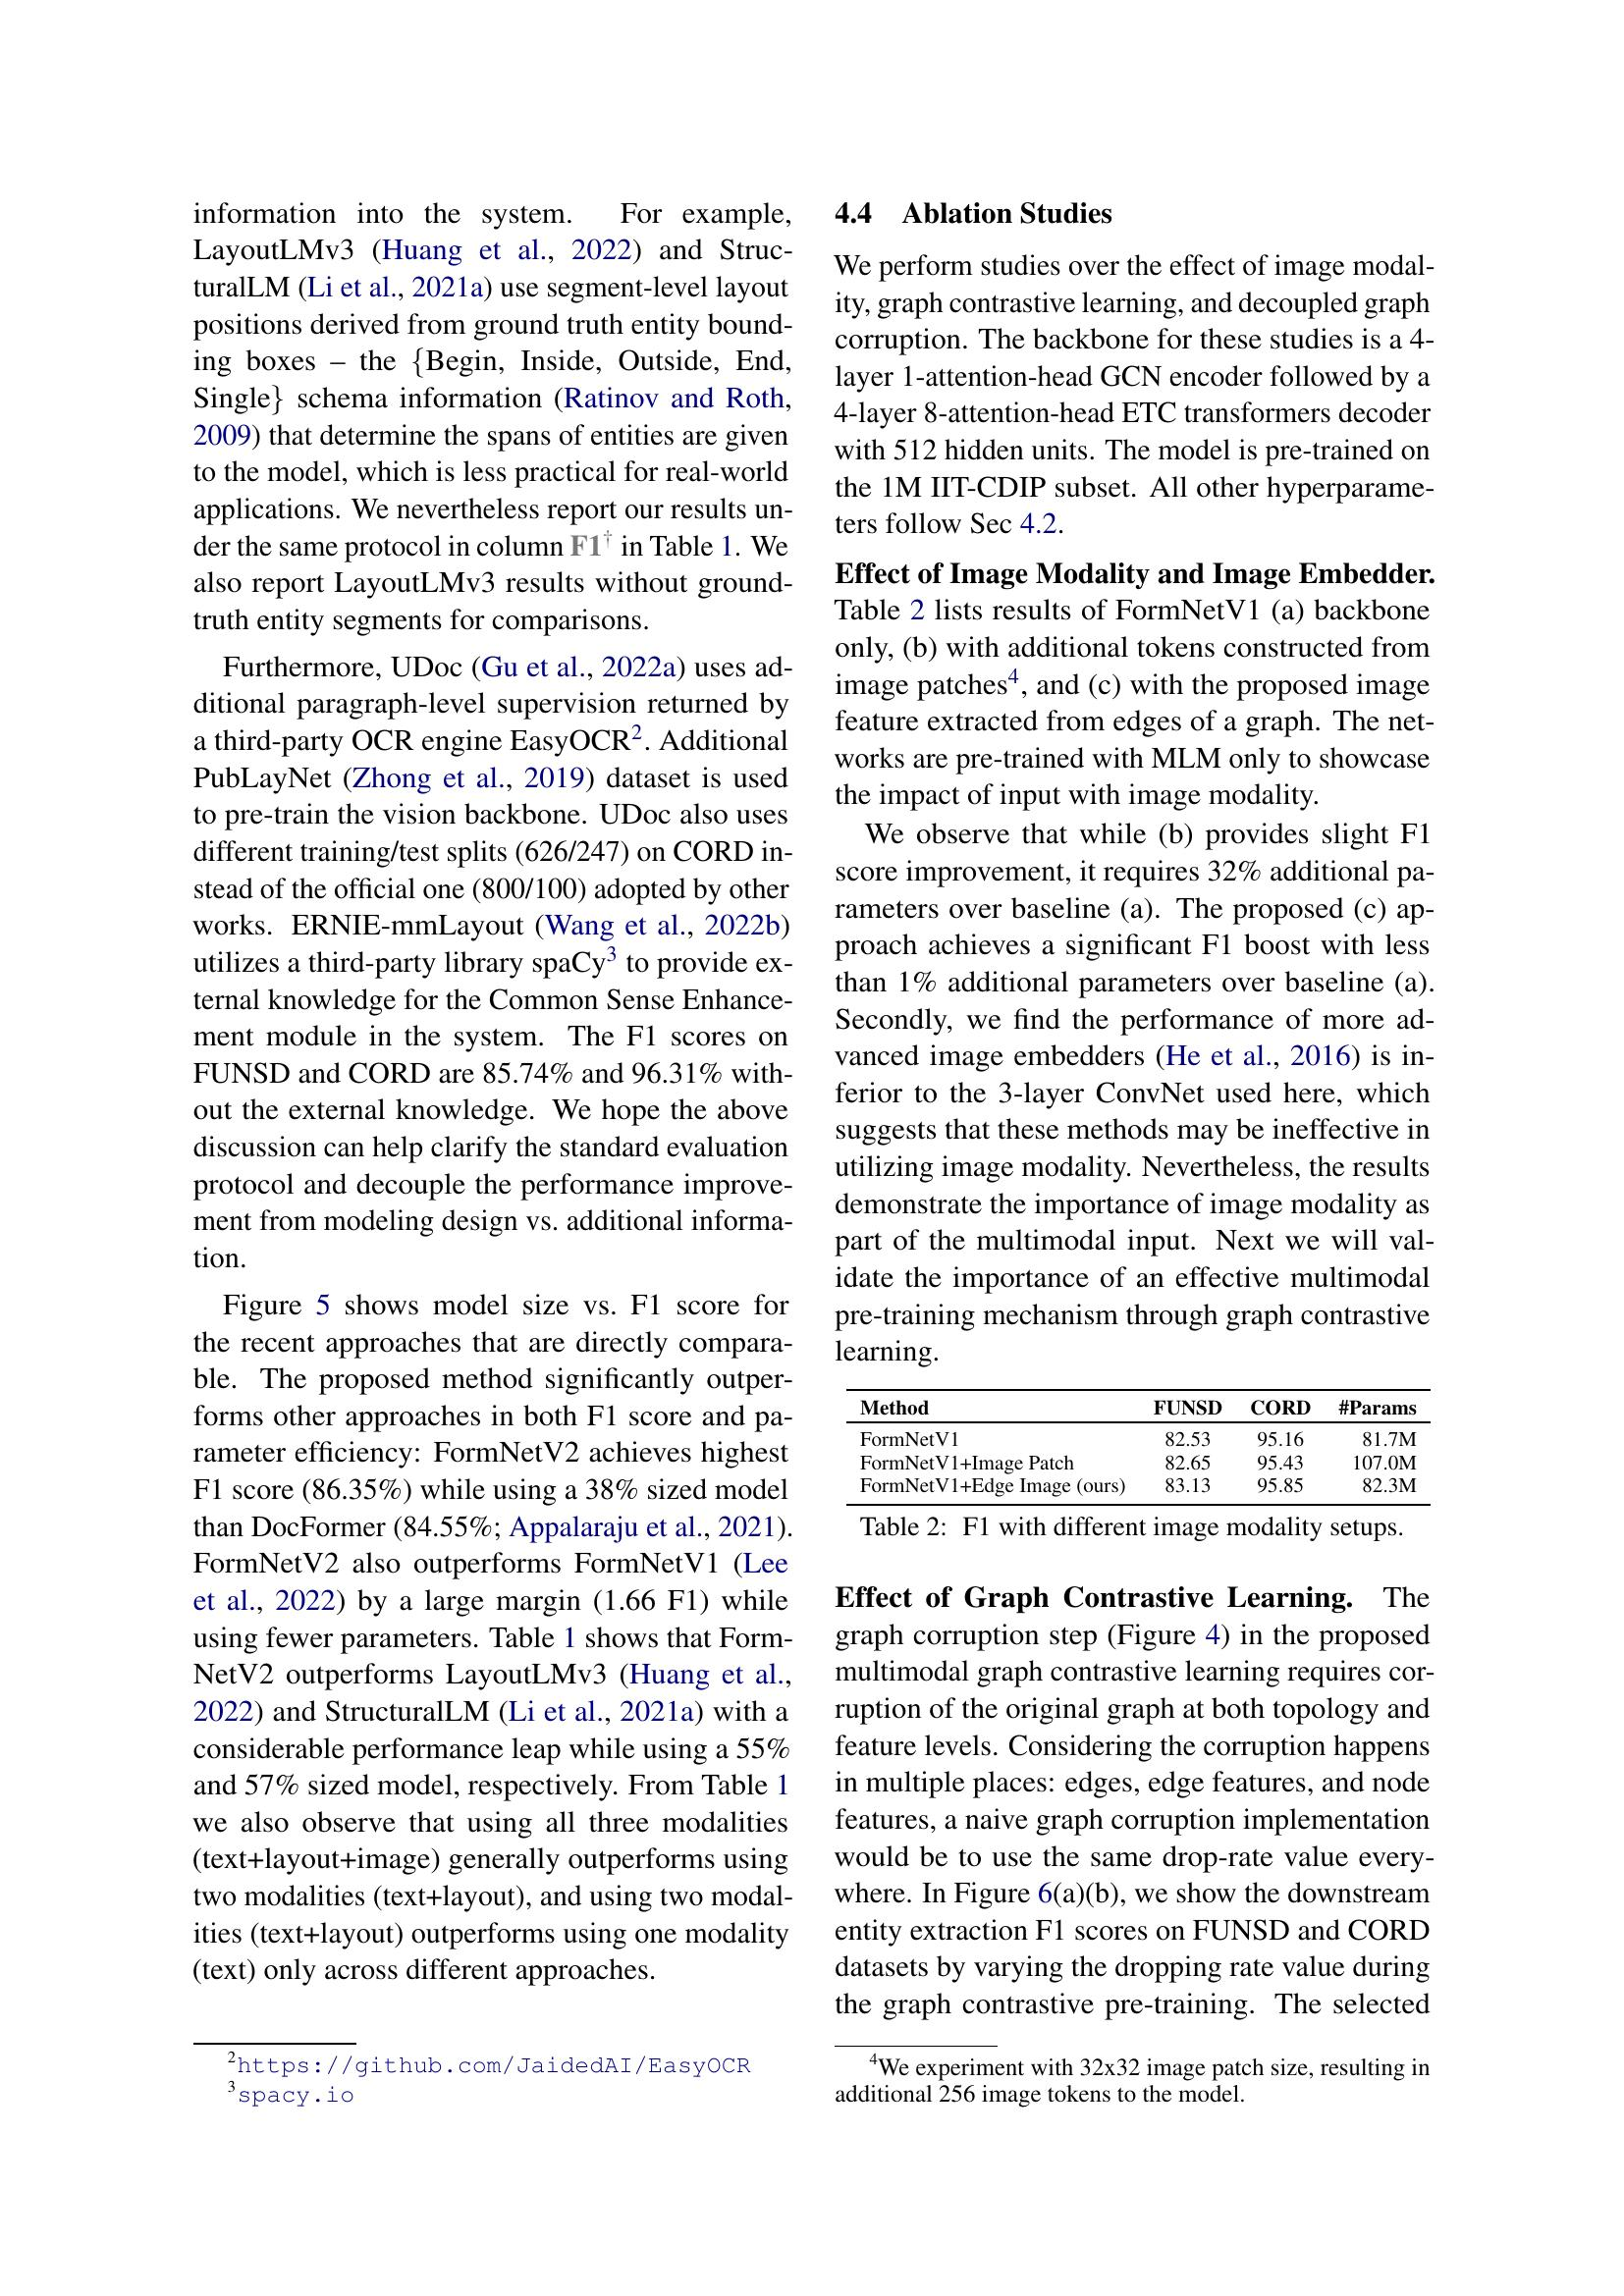table: (842, 1383, 1436, 1549)
text: (825, 551, 1439, 1376), (181, 1280, 801, 1999), (182, 647, 800, 1279), (823, 1573, 1439, 2030), (181, 191, 801, 639), (826, 189, 1442, 547)
